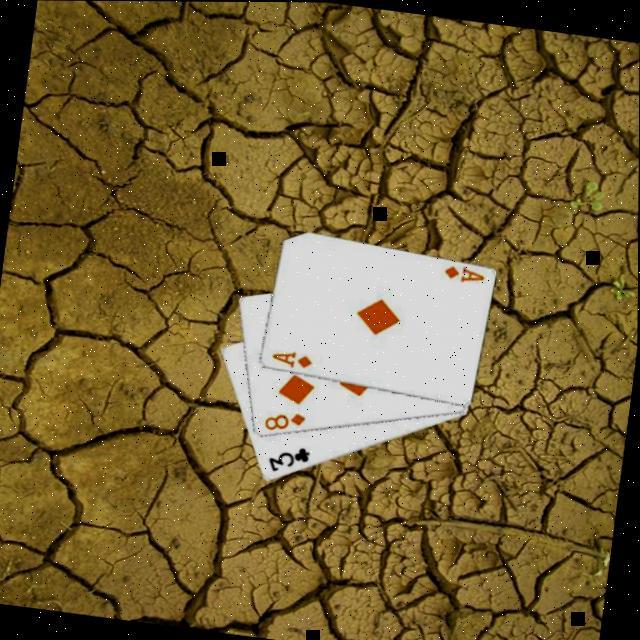3C: (265, 438, 316, 477)
8D: (262, 404, 312, 436)
AD: (269, 343, 317, 370), (442, 259, 490, 285)
